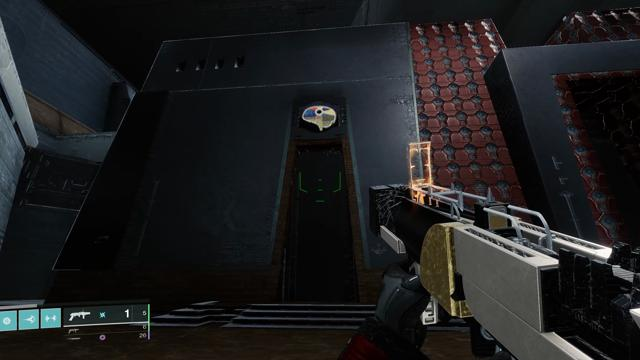brain: (297, 100, 341, 134)
